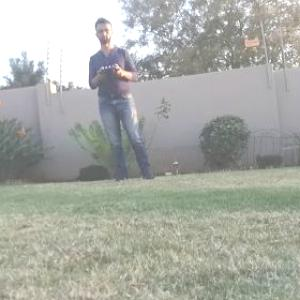follow: (84, 12, 162, 184)
